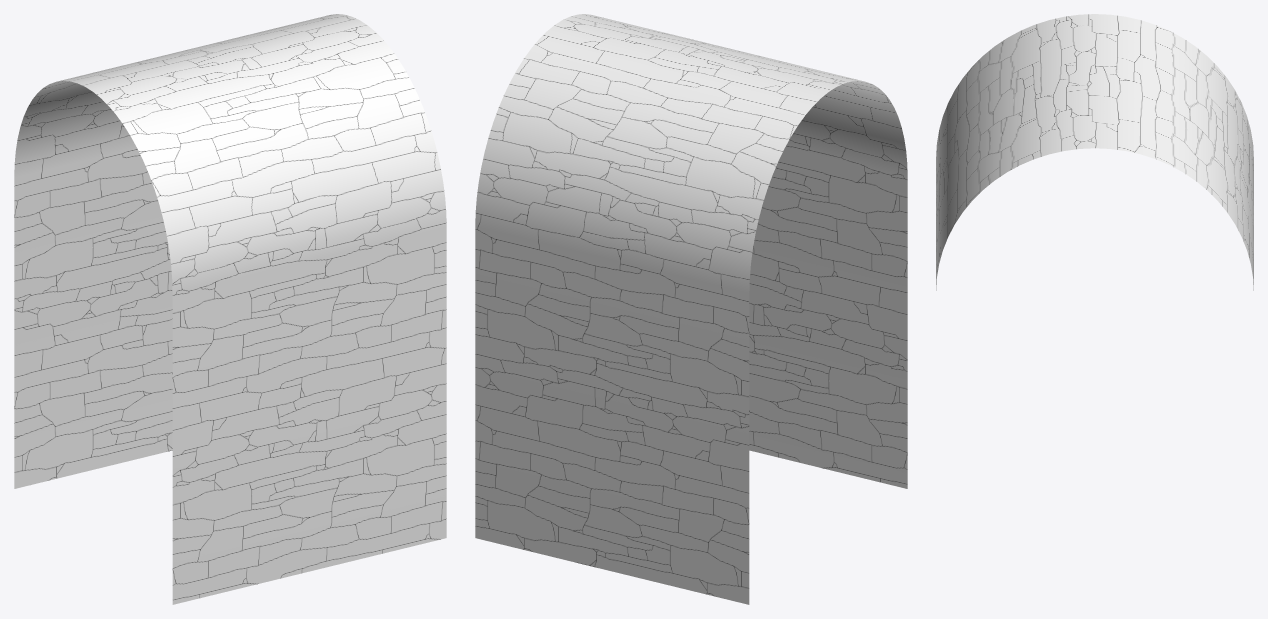
The picture shows the model from 3 angles, left to right: view 1: azimuth 30°, elevation 25°; view 2: azimuth 150°, elevation 25°; view 3: azimuth 270°, elevation 25°; orthographic projection.
Visible parts, largest first — view 1: Cylinder; view 2: Cylinder; view 3: Cylinder.
Part boxes in pixels (x1=…): Cylinder: x1=14, y1=14, x2=446, y2=604; Cylinder: x1=475, y1=14, x2=907, y2=604; Cylinder: x1=936, y1=14, x2=1253, y2=290.
Size of the model in its own units: 200 by 317 by 200.
